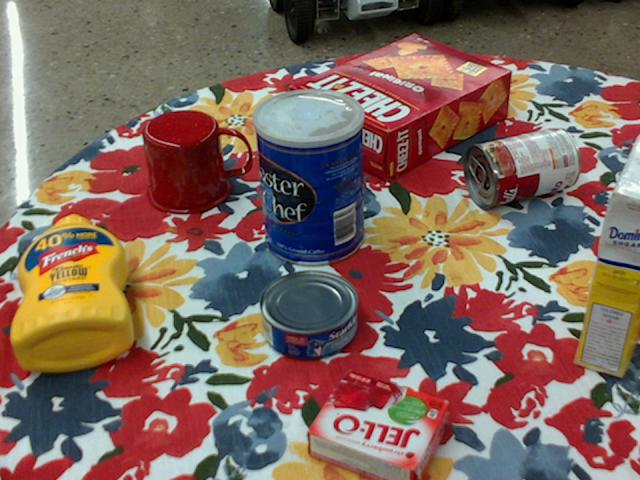cracker_box: (292, 35, 513, 181)
gelatin_box: (309, 372, 455, 479)
master_chef_can: (252, 87, 364, 266)
mug: (142, 109, 251, 214)
mustard_bottle: (12, 214, 134, 371)
sugar_box: (576, 133, 639, 378)
tomato_soup_can: (464, 125, 581, 208)
tuna_fish_can: (259, 271, 358, 361)
